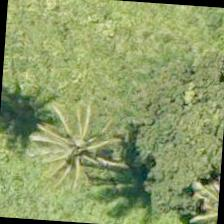Kelapa_Sawit: (32, 102, 128, 198)
